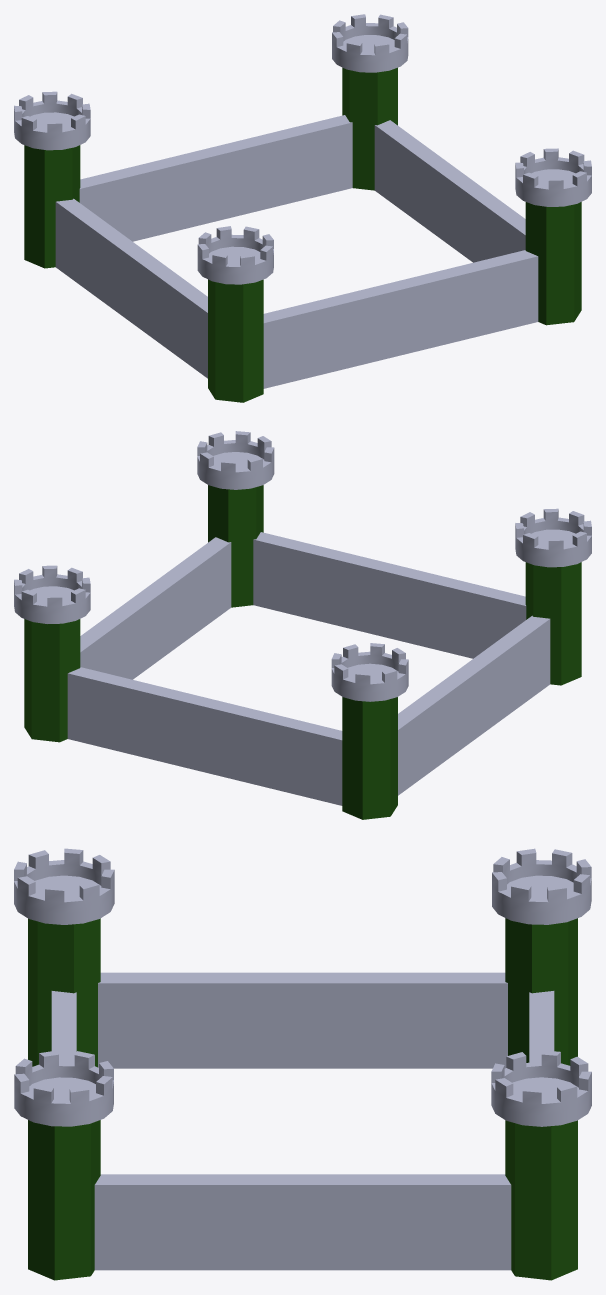
File: Keep.fbx
The picture shows the model from 3 angles, top to bottom: view 1: azimuth 30°, elevation 25°; view 2: azimuth 150°, elevation 25°; view 3: azimuth 270°, elevation 25°; orthographic projection. The views are drawn at different scales.
Parts seen in each view (by area): view 1: KeepHole1; view 2: KeepHole1; view 3: KeepHole1.
Boxes of the visible parts, x1=… form: KeepHole1: x1=14, y1=14, x2=591, y2=402; KeepHole1: x1=14, y1=431, x2=591, y2=819; KeepHole1: x1=14, y1=848, x2=591, y2=1280.
Bounding box in the file's own units: 23 × 8.5 × 23.
Materials: 1 (1 with a texture image).
